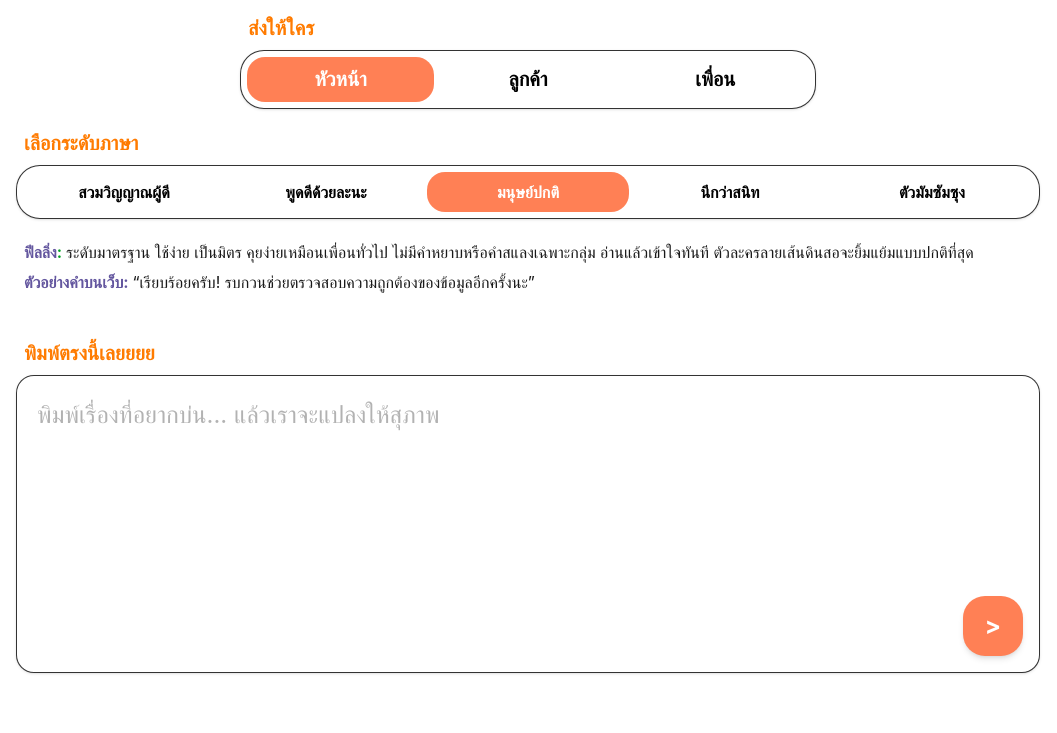
it: Home page › shows an out-of-credit message on 402
The image size is (1057, 733).
Type "hi" into the text box with placeholder "พิมพ์เรื่องที่อยากบ่น... แล้วเราจะแปลงให้สุภาพ". click: (528, 491)
box: [37,396,1019,586]
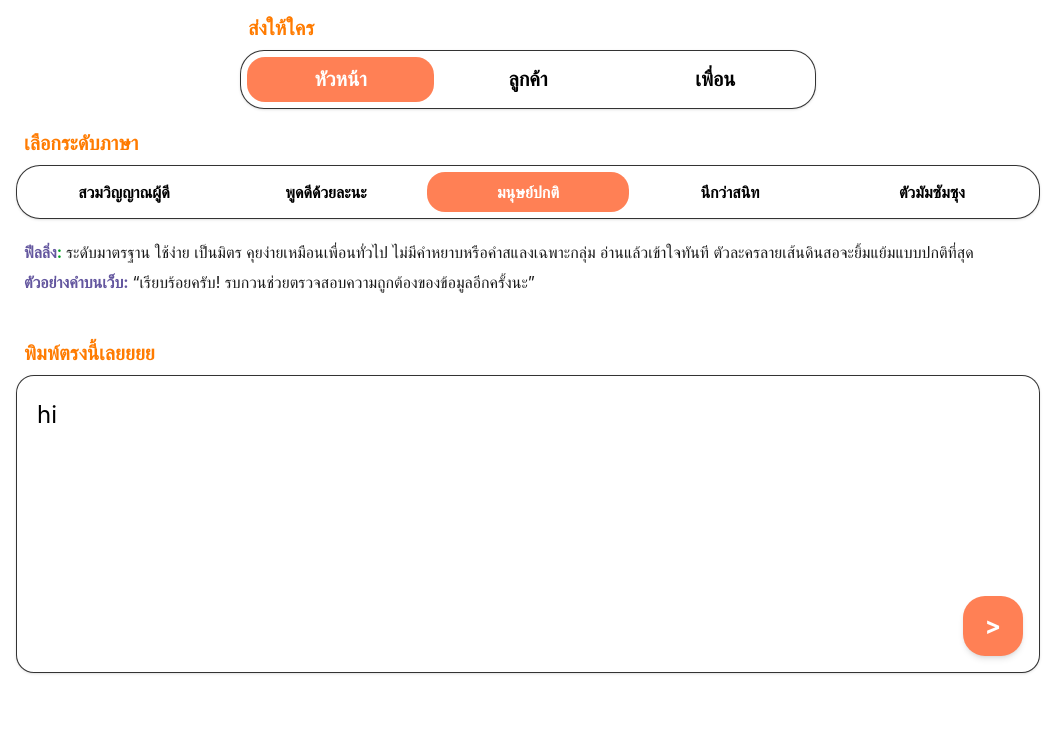
Click the button named "แปลงข้อความ". click: (993, 626)
box: [963,596,1023,656]
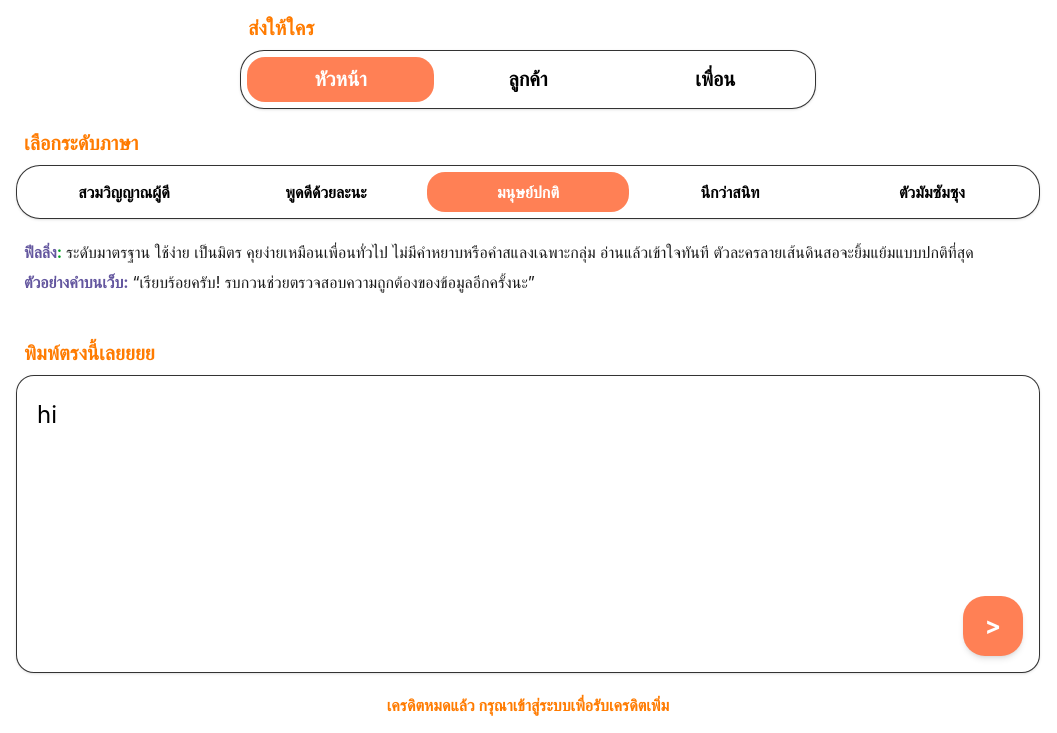
Check: the text "เครดิตหมดแล้ว กรุณาเข้าสู่ระบบเพื่อรับเครดิตเพิ่ม" is shown, box [387,695,669,715]
